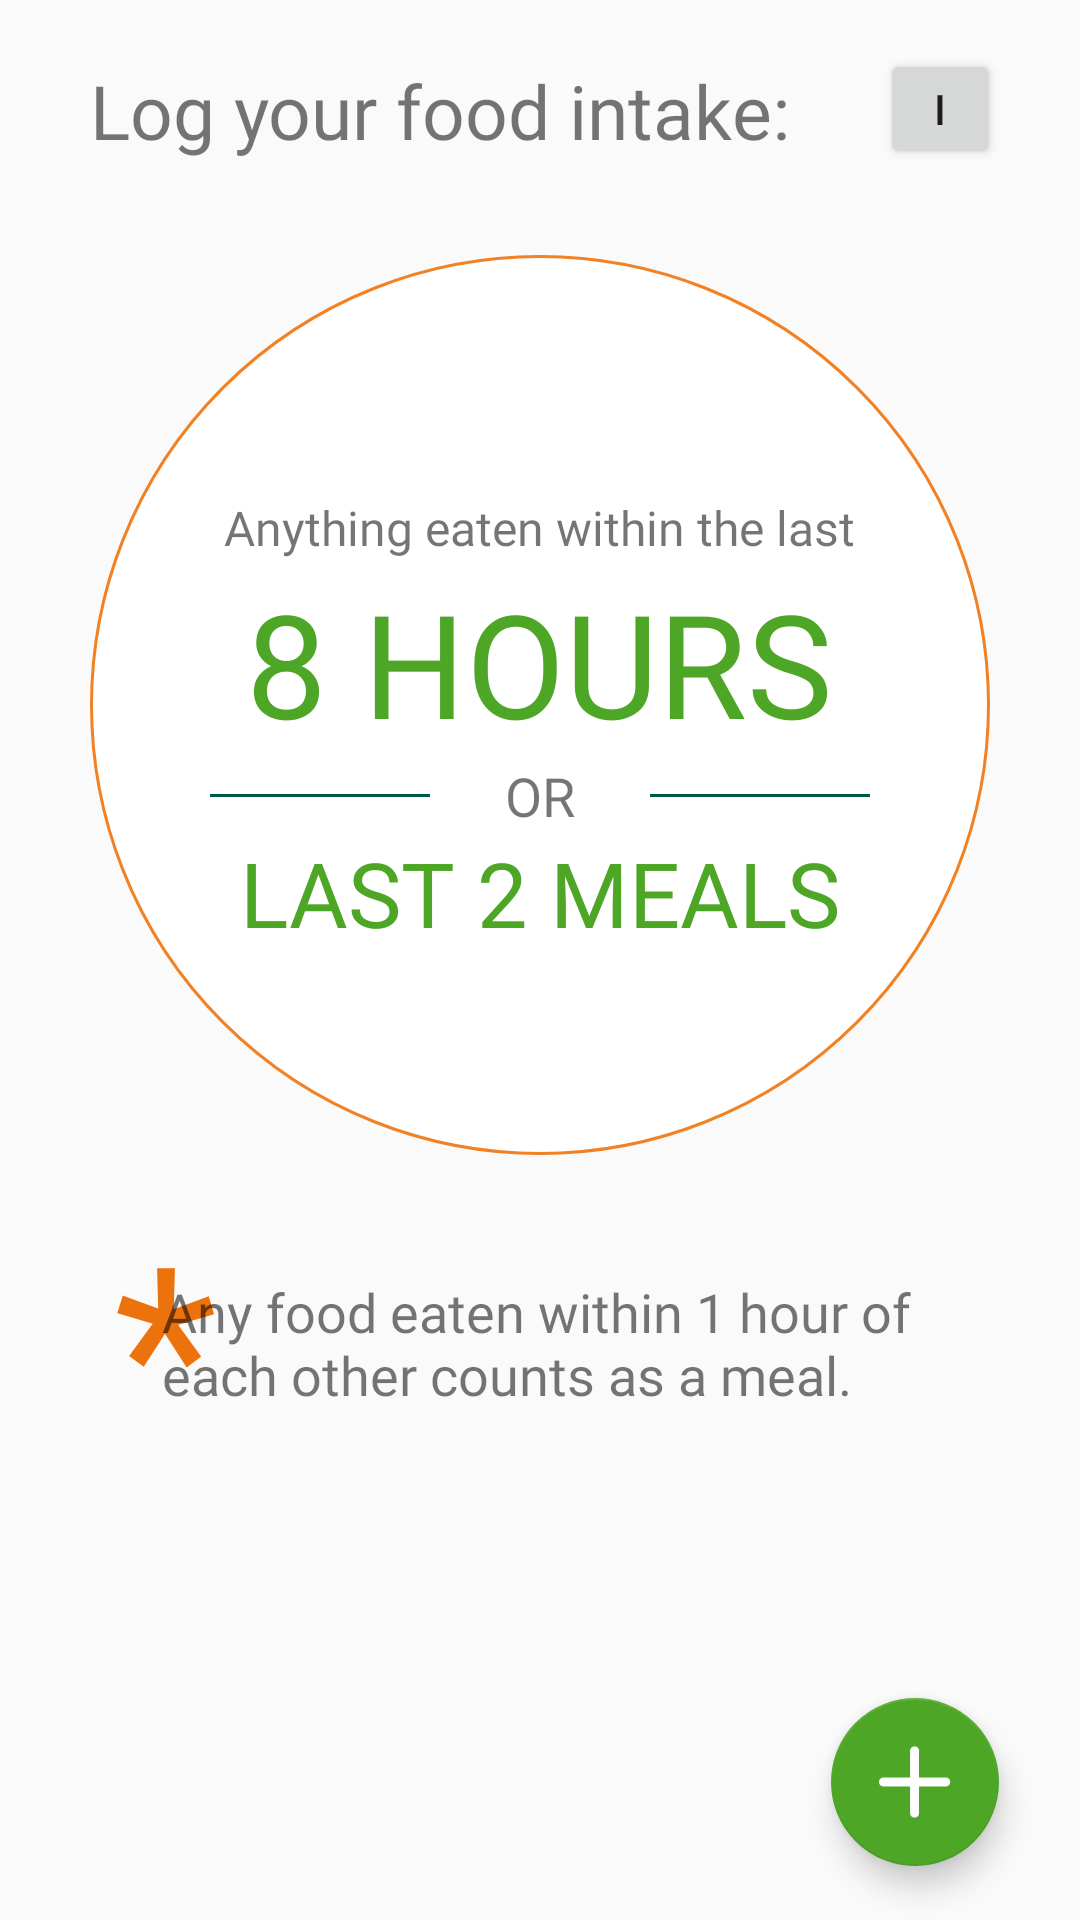

Icons on this 1080px×1920px Android screen, each with its box as (x1, y1, x2, y2):
add: (831, 1698, 1001, 1883)
